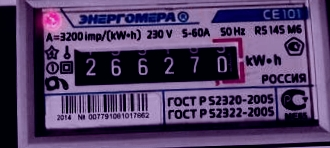0: (215, 53, 227, 74)
2: (83, 55, 97, 77), (162, 54, 174, 76)
6: (109, 57, 122, 77), (135, 56, 148, 75)
7: (187, 54, 200, 75)
screen: (63, 33, 252, 95)
